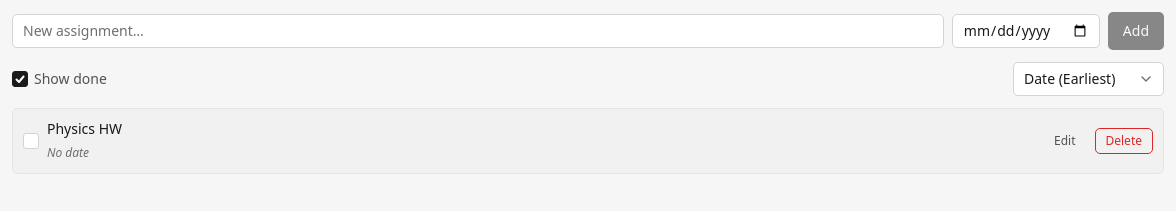
Test: HomeworkTab › hides a completed item when "Show done" is off
The width and height of the screenshot is (1176, 211).
Expected: the text "Physics HW" is shown, [47,119,122,138]
Click the checkbox named "Show done" at coordinates (20, 79), box [12,71,28,87]
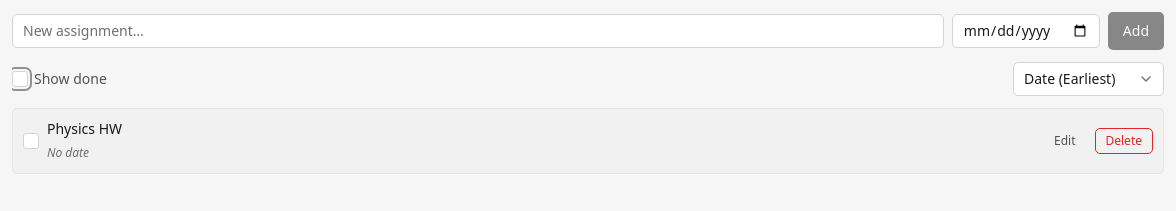
Expected: the text "Physics HW" is shown, [47,119,122,138]
Click the checkbox named "Physics HW" at coordinates (31, 141), box [23,133,39,149]
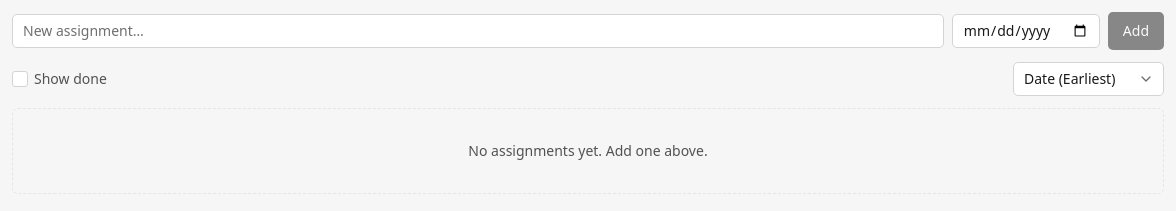
Expected: the text "Physics HW" is gone
